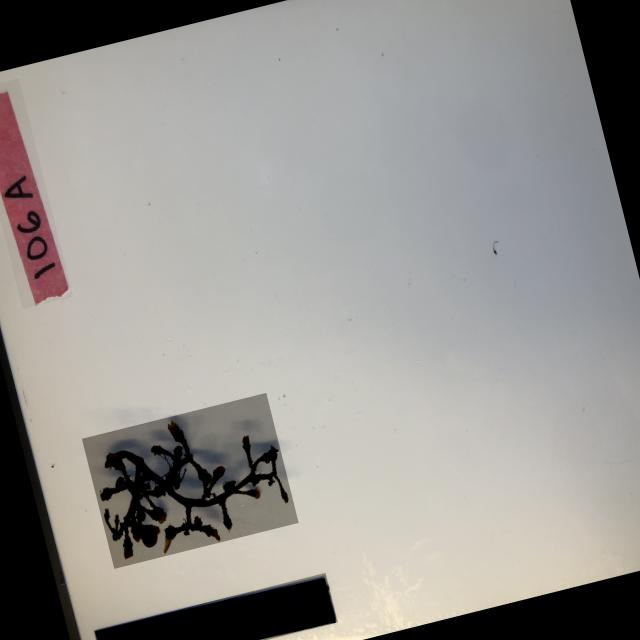index: (0, 76, 72, 307)
measure_label: (93, 571, 337, 640)
rachis_cluster: (82, 391, 298, 567)
